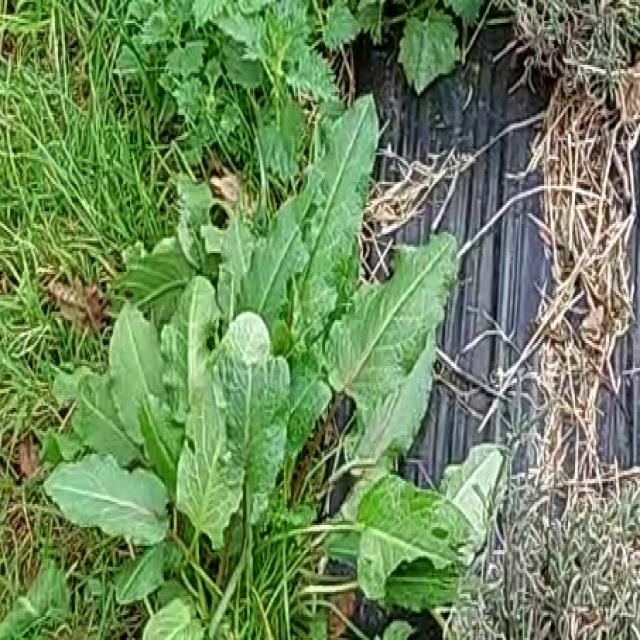organic waste: (42, 102, 480, 640)
